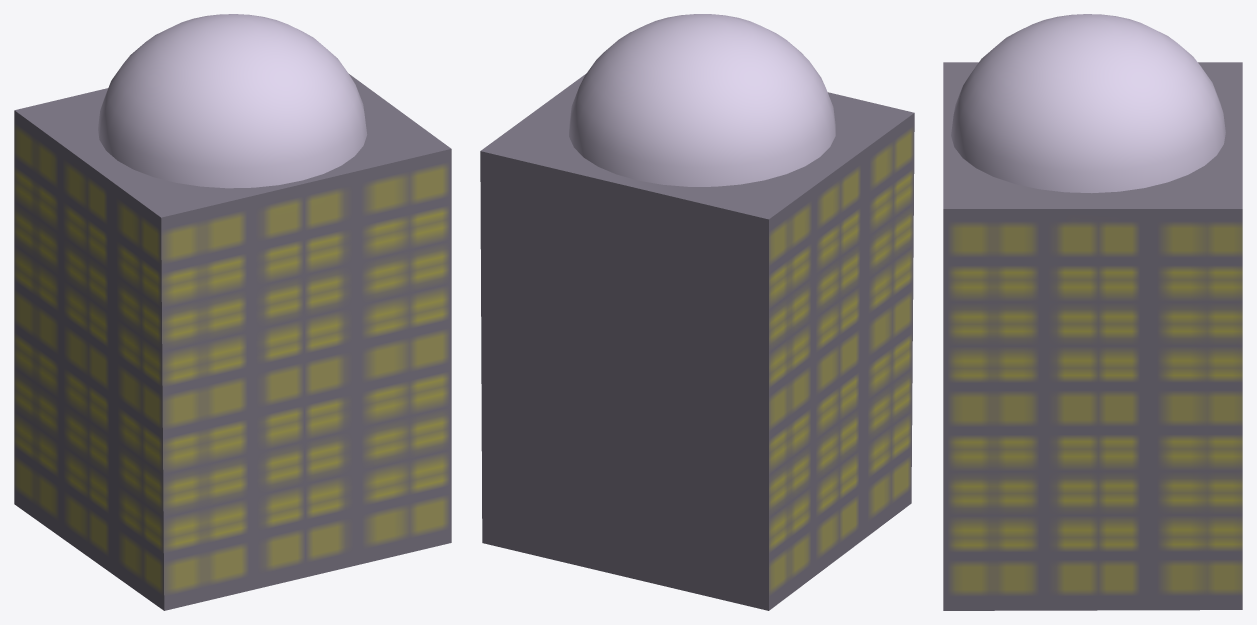
File: DomeBuilding_1_Mesh.fbx
The picture shows the model from 3 angles, left to right: view 1: azimuth 30°, elevation 25°; view 2: azimuth 150°, elevation 25°; view 3: azimuth 270°, elevation 25°; orthographic projection. The views are drawn at different scales.
Parts seen in each view (by area): view 1: Cube.001; view 2: Cube.001; view 3: Cube.001.
Boxes of the visible parts, box(x1,y1,x2,y2) form: Cube.001: box(14, 14, 451, 610); Cube.001: box(480, 14, 914, 610); Cube.001: box(943, 14, 1242, 610).
Bounding box in the file's own units: 865 × 1420 × 757.
1 material, 1 textured.
